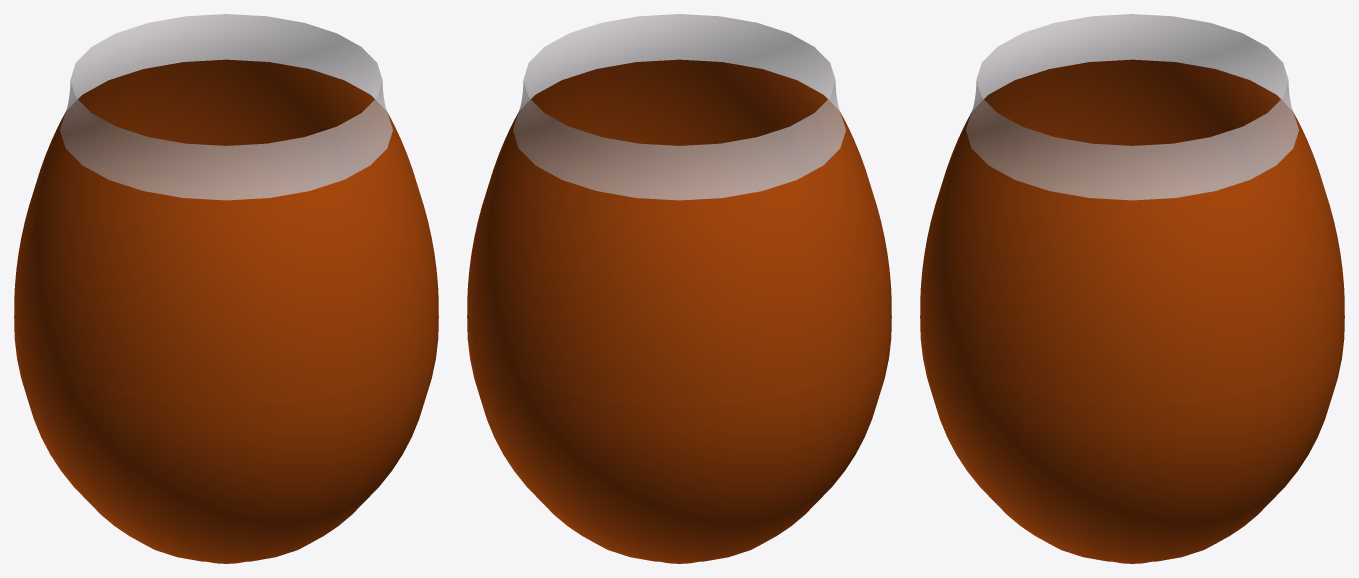
Rendered from beer_content1.obj.
3 views of the same model, side by side, from view 1: azimuth 30°, elevation 25°; view 2: azimuth 150°, elevation 25°; view 3: azimuth 270°, elevation 25° (orthographic).
Parts seen in each view (by area): view 1: Mesh1 G_13oz_Libbey_Belgian_Snifter1 Model; view 2: Mesh1 G_13oz_Libbey_Belgian_Snifter1 Model; view 3: Mesh1 G_13oz_Libbey_Belgian_Snifter1 Model.
Part boxes in pixels (bbox=[...]): Mesh1 G_13oz_Libbey_Belgian_Snifter1 Model: bbox=[14, 14, 438, 563]; Mesh1 G_13oz_Libbey_Belgian_Snifter1 Model: bbox=[467, 14, 891, 563]; Mesh1 G_13oz_Libbey_Belgian_Snifter1 Model: bbox=[920, 14, 1344, 563].
Bounding box in the file's own units: 2.78 × 3.43 × 2.78.
